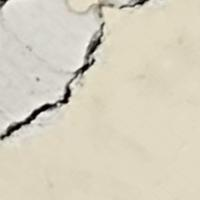crack: (0, 0, 160, 142)
